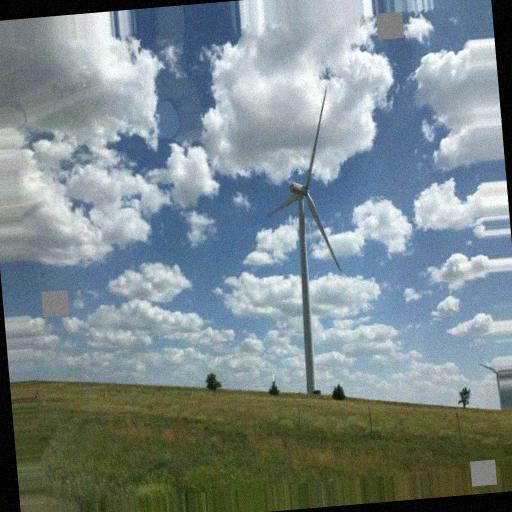wind turbine: (268, 85, 346, 393)
